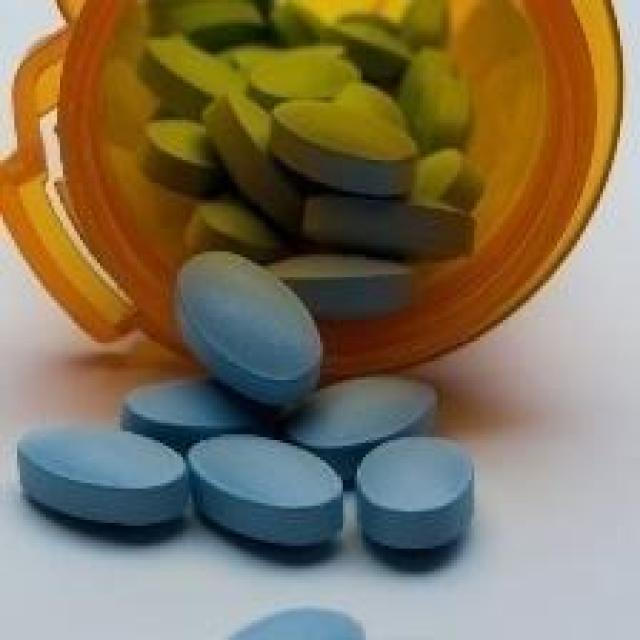Medicine: (22, 0, 586, 640)
